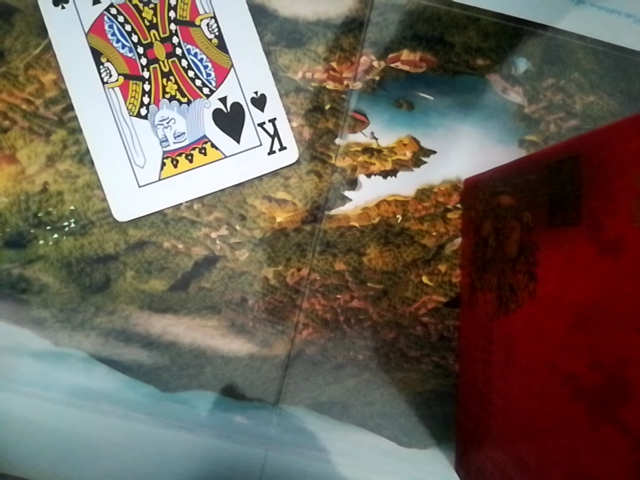ht k: (20, 0, 294, 228)
